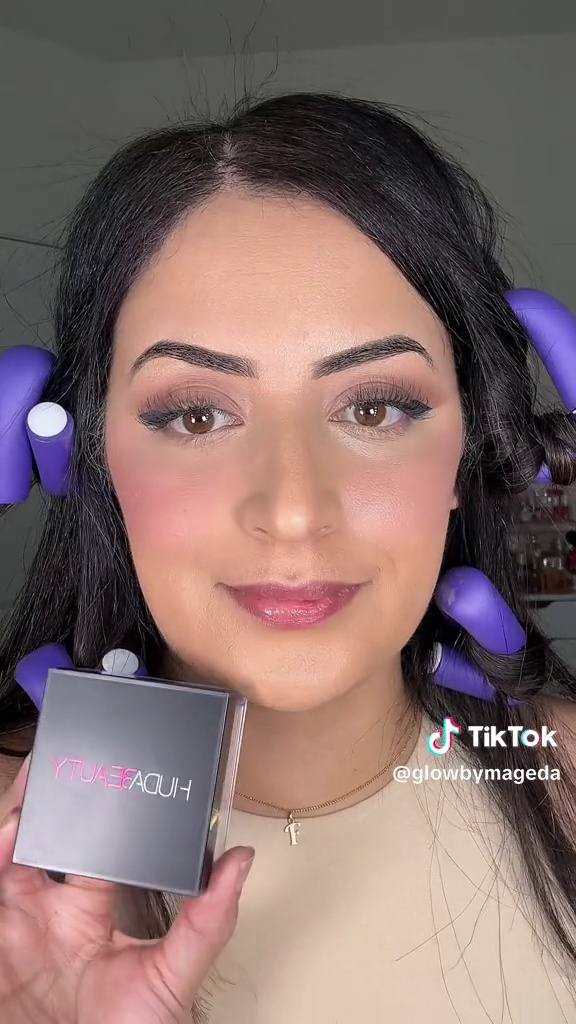train' :'yolo_data/train/images',: (3, 655, 257, 903)
